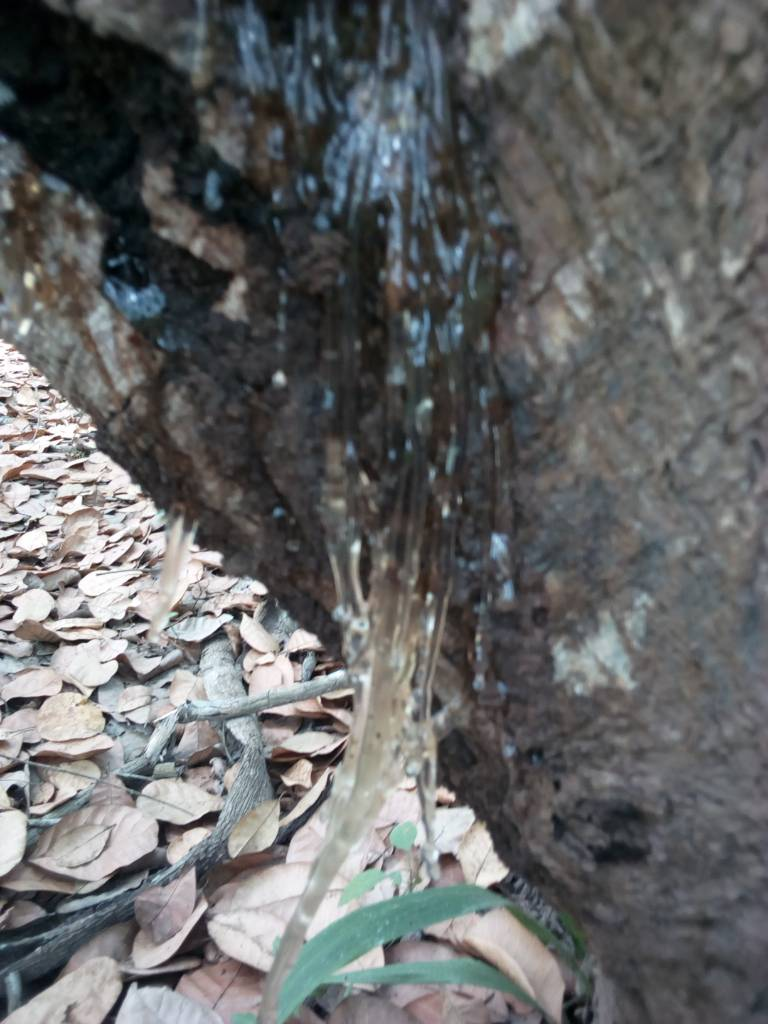Gommose: (179, 2, 494, 896)
